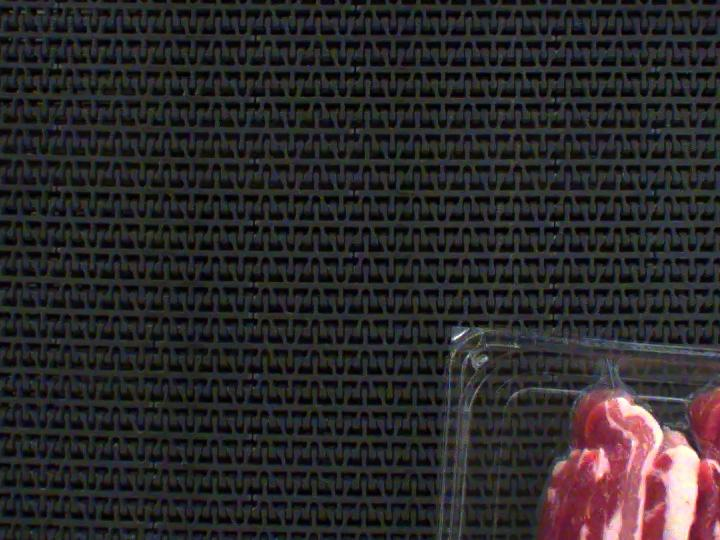packaging-error: (576, 349, 641, 391), (705, 360, 720, 392)
unsealed: (560, 370, 720, 474)
